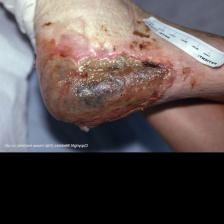Wound: (29, 53, 187, 131)
